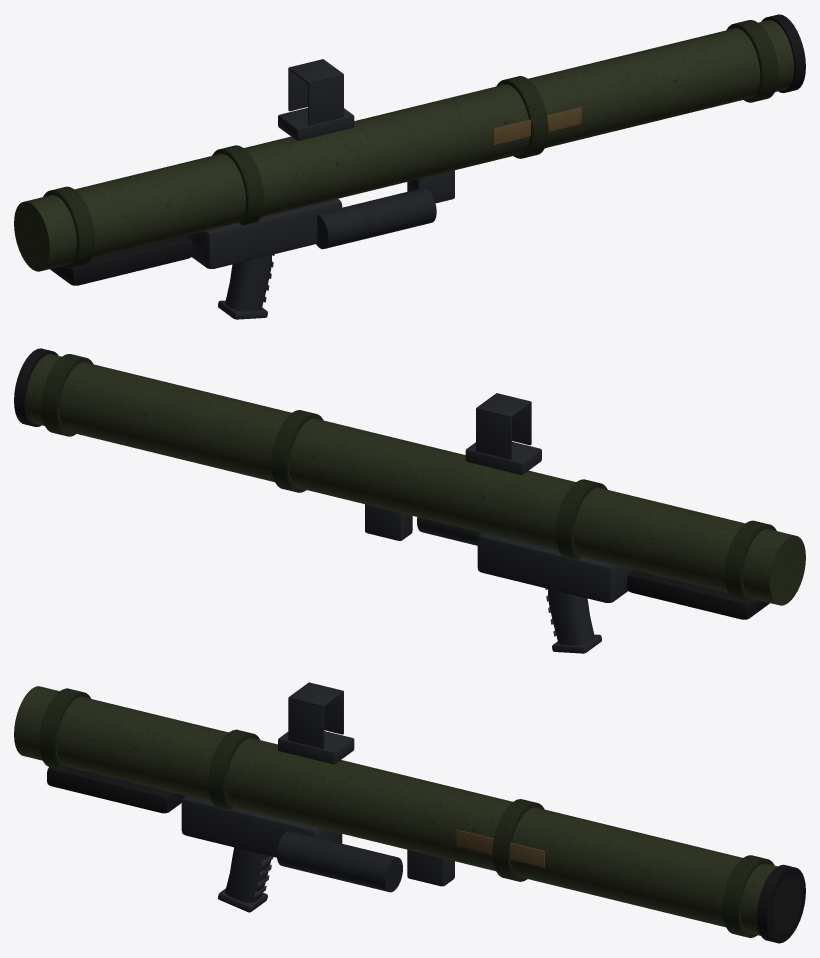
File: stinger.glb
3 renders of one model, top to bottom at view 1: azimuth 30°, elevation 25°; view 2: azimuth 150°, elevation 25°; view 3: azimuth 330°, elevation 25°, orthographic.
Visible parts, largest first — view 1: stinger_body; view 2: stinger_body; view 3: stinger_body.
Part boxes in pixels (box(x1,y1,x2,y2)): stinger_body: box(14, 14, 805, 319); stinger_body: box(14, 348, 805, 653); stinger_body: box(14, 682, 805, 943).
Size of the model in its own units: 1.12 by 0.3206 by 0.1179.
Materials: 8 (4 with a texture image).
